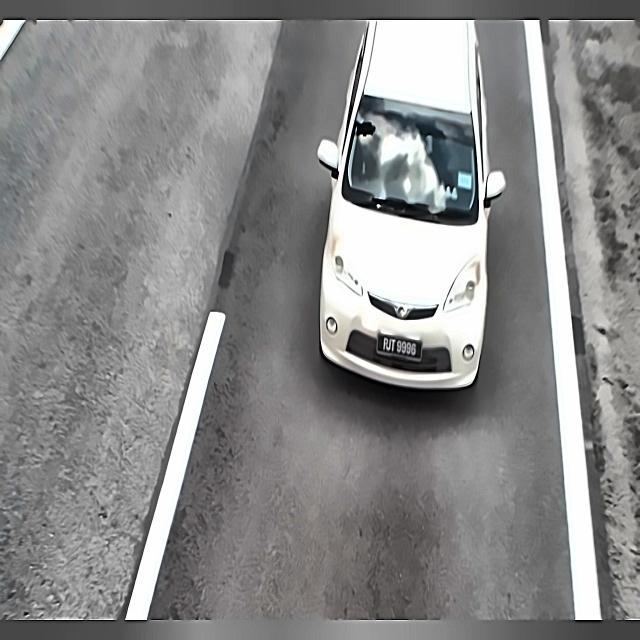car: (370, 320, 428, 368)
